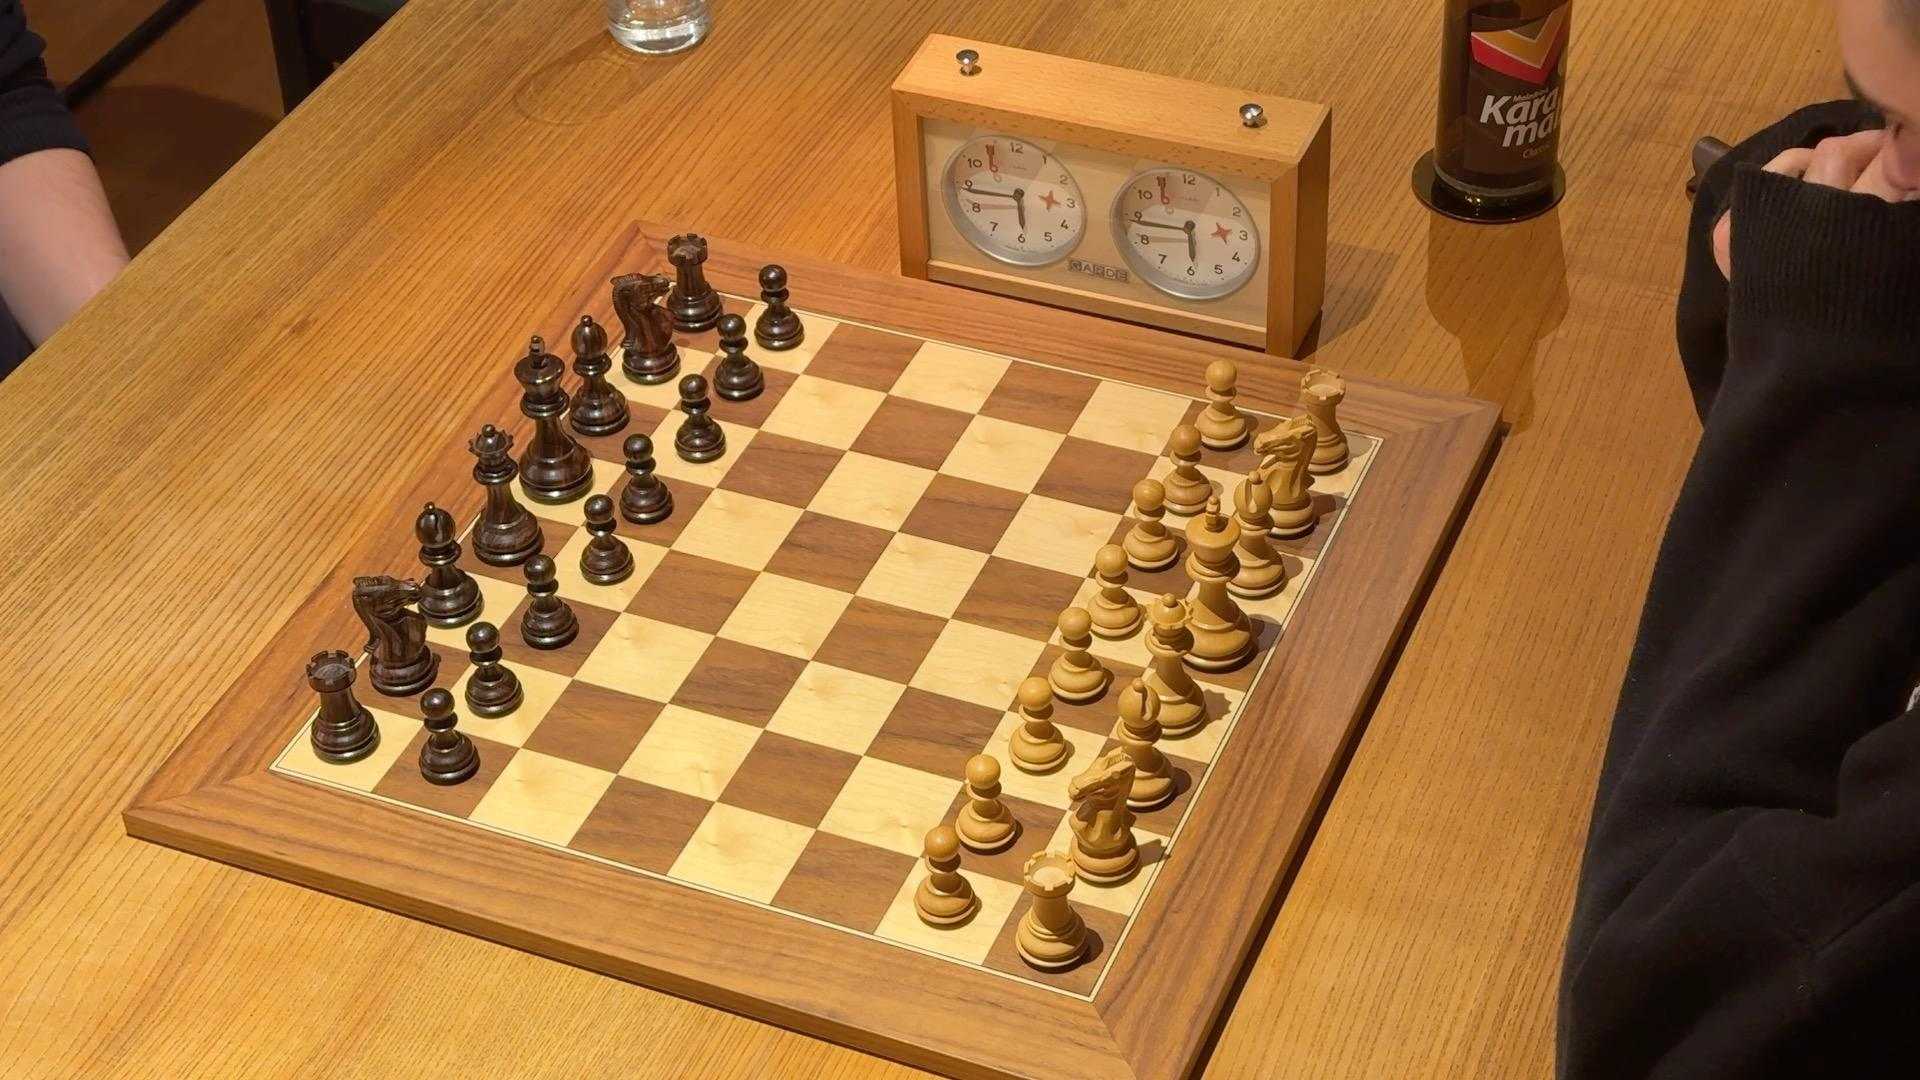Black Bishop: (411, 496, 484, 633), (566, 311, 632, 440)
Black King: (513, 332, 597, 510)
Black Knight: (347, 571, 439, 699), (605, 268, 684, 389)
Black Pawn: (462, 616, 527, 723), (415, 684, 483, 789), (518, 550, 583, 653), (617, 426, 680, 529), (576, 489, 638, 587), (671, 368, 731, 469), (750, 260, 814, 353), (709, 310, 769, 405)
Black Queen: (463, 419, 547, 570)
Black Rook: (301, 644, 384, 769), (661, 228, 729, 336)
White Bishop: (1101, 675, 1182, 816), (1220, 467, 1290, 603)
White King: (1171, 492, 1263, 676)
White Knight: (1064, 744, 1145, 891), (1246, 410, 1324, 539)
White Pawn: (910, 822, 982, 932), (953, 749, 1021, 856), (1006, 674, 1072, 778), (1046, 601, 1112, 705), (1081, 539, 1145, 642), (1118, 475, 1180, 574), (1158, 419, 1217, 518), (1192, 355, 1251, 454)
White Queen: (1129, 591, 1212, 744)
White Rook: (1014, 847, 1093, 977), (1286, 364, 1356, 480)
